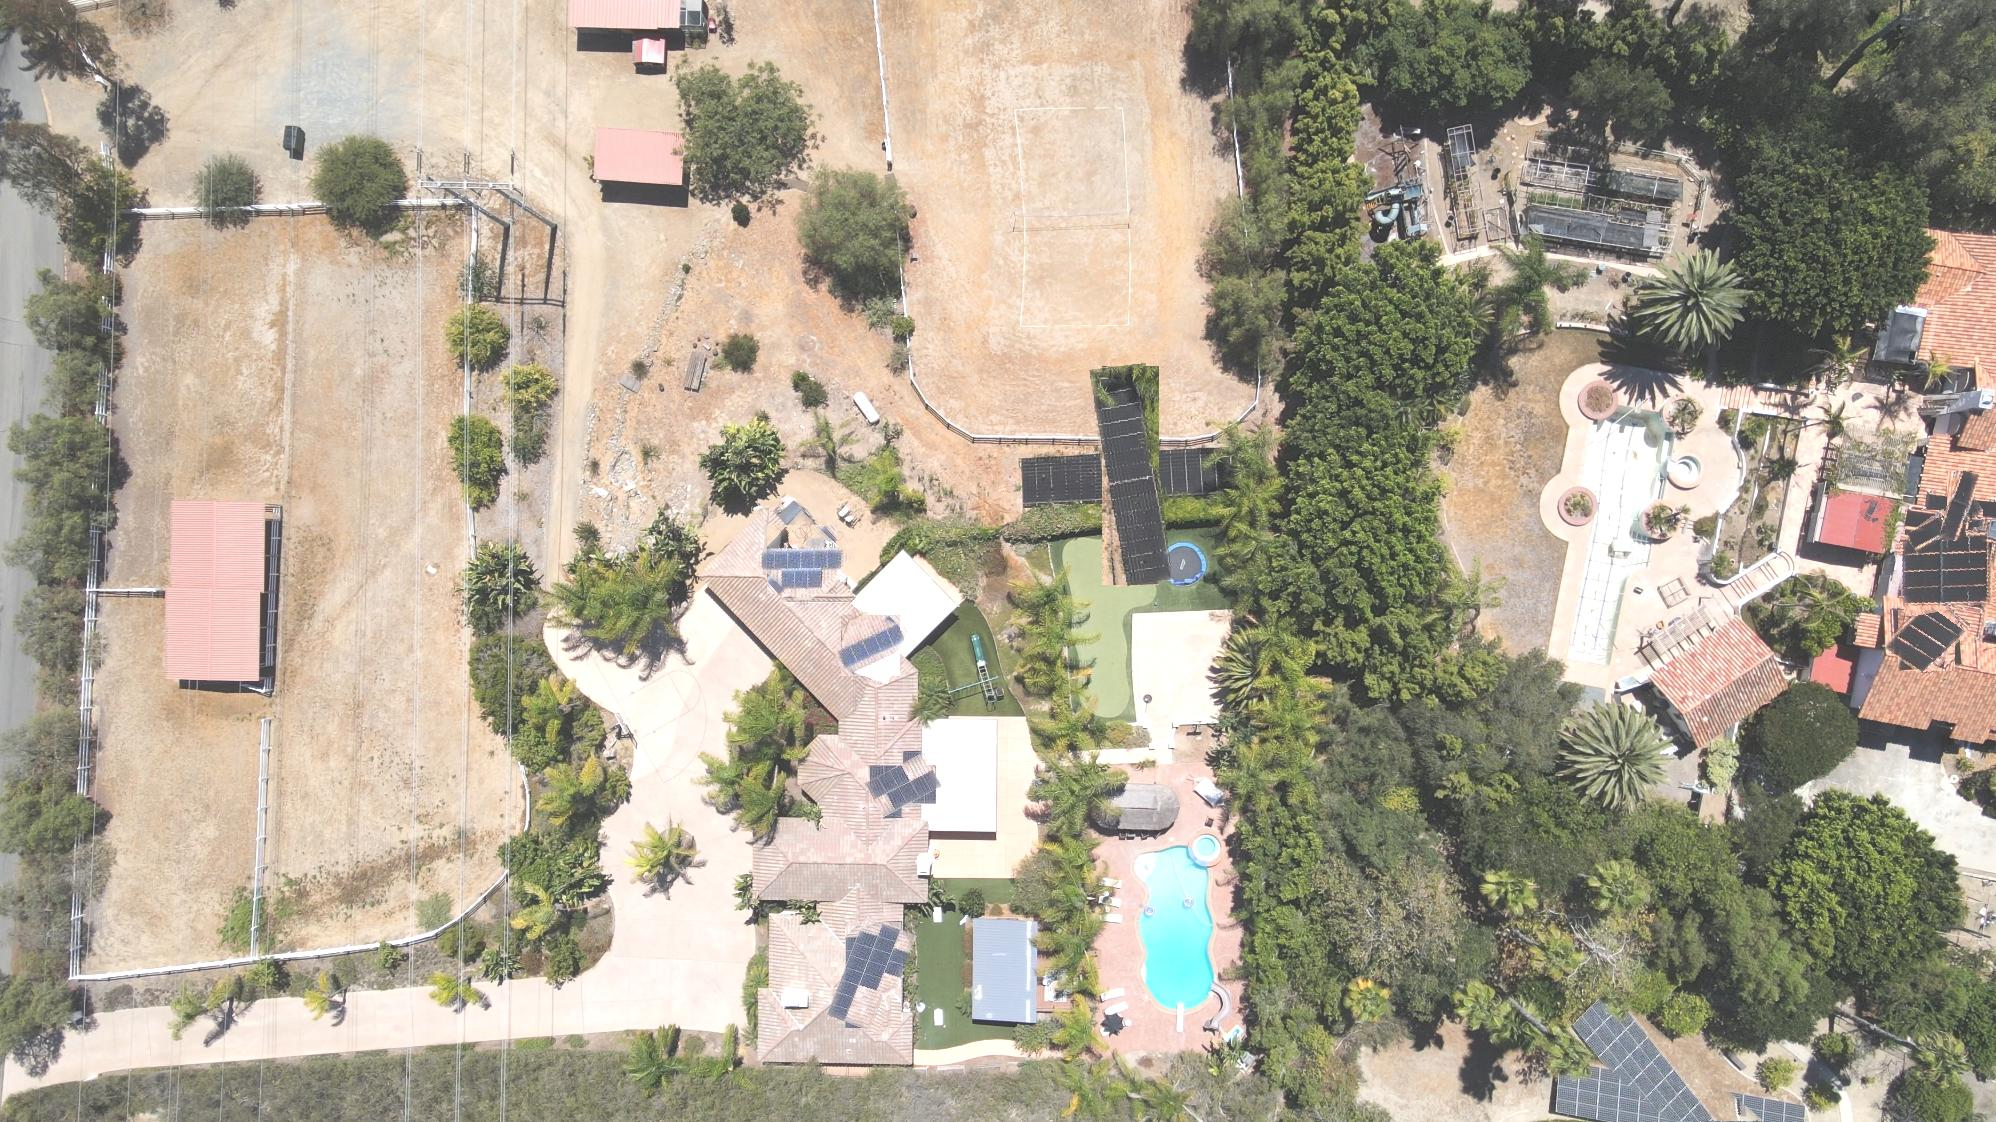solar-panels: (1572, 986, 1716, 1122), (1090, 363, 1172, 586), (828, 922, 912, 1020), (1884, 601, 1970, 673), (1903, 535, 1988, 605), (1907, 497, 1980, 547), (864, 765, 940, 809), (762, 549, 843, 588), (836, 623, 903, 668), (1940, 470, 1980, 540), (1863, 498, 1878, 523)
